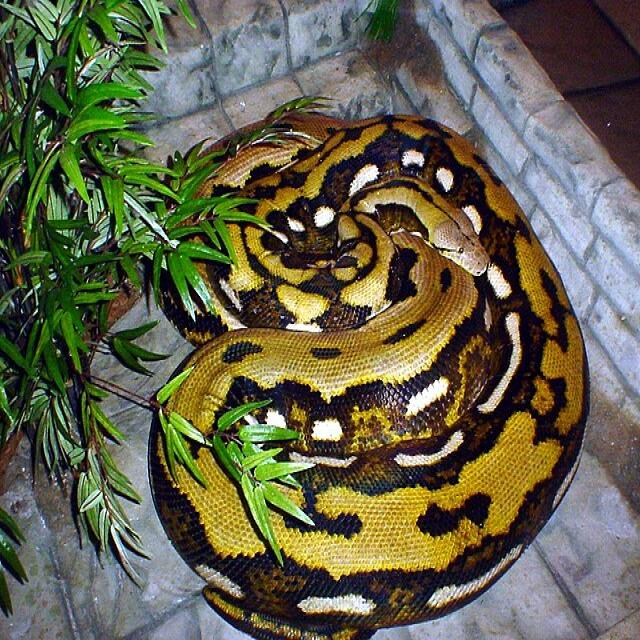Non-Venomous: (361, 149, 499, 299)
